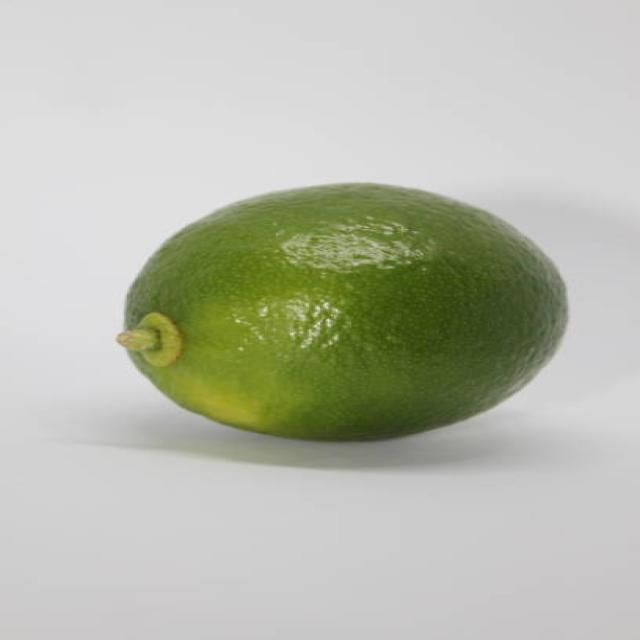Lemon: (120, 179, 570, 441)
